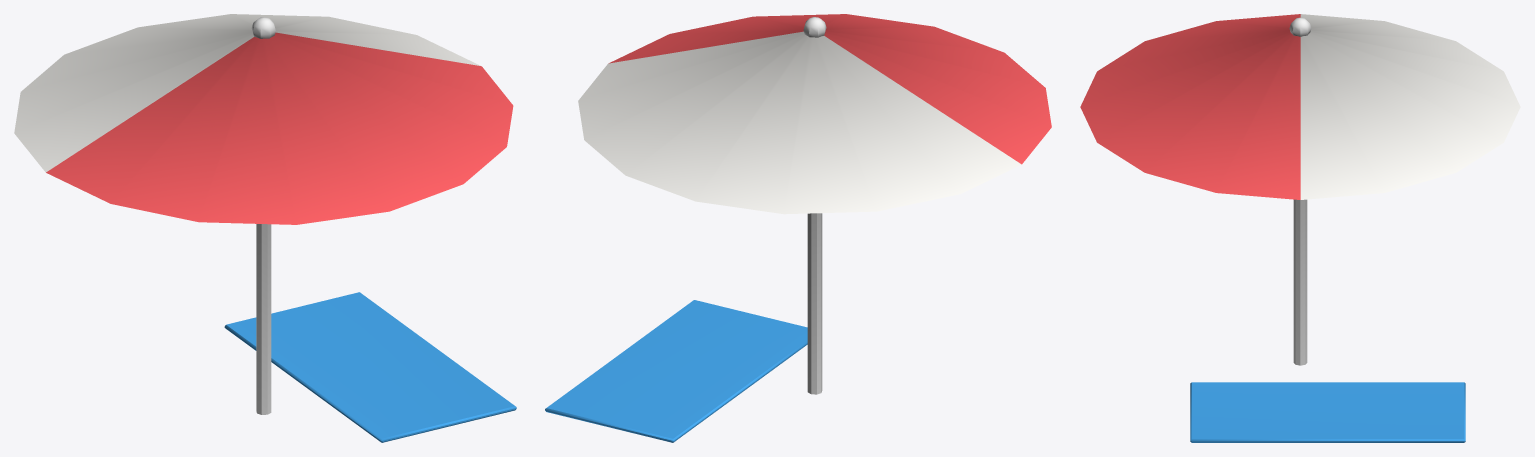
The model's file is umbrella.glb.
3 renders of one model, left to right at view 1: azimuth 30°, elevation 25°; view 2: azimuth 150°, elevation 25°; view 3: azimuth 270°, elevation 25°, orthographic. The views are drawn at different scales.
Parts seen in each view (by area): view 1: umbrella; view 2: umbrella; view 3: umbrella.
Part boxes in pixels (left/top/right/bottom): umbrella: left=14, top=14, right=516, bottom=442; umbrella: left=545, top=14, right=1051, bottom=442; umbrella: left=1080, top=14, right=1520, bottom=442.
Size of the model in its own units: 3.2 by 2.76 by 3.2.
